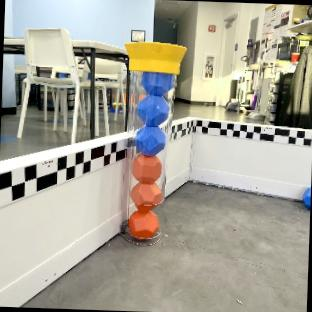V5_BLUE: (138, 94, 168, 124), (135, 125, 165, 154), (142, 70, 172, 94)
V5_RED: (132, 153, 162, 185), (128, 207, 158, 238), (131, 181, 162, 210)
